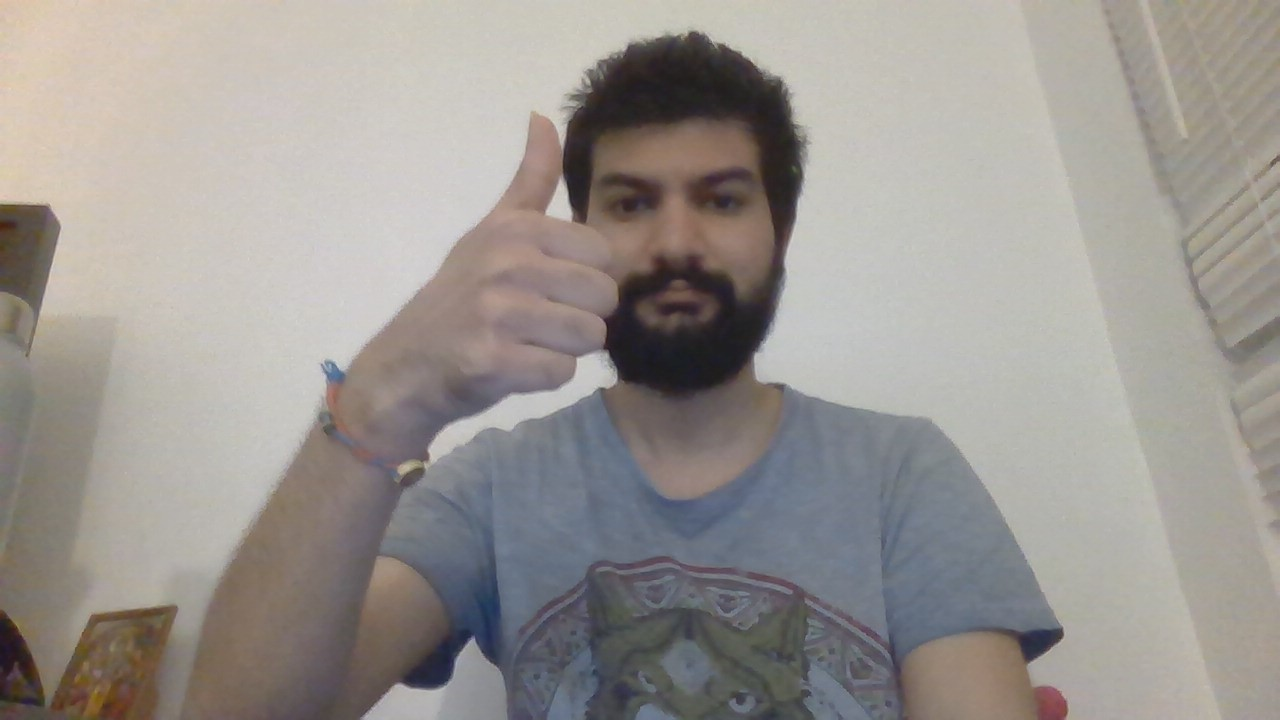up: (434, 106, 626, 402)
